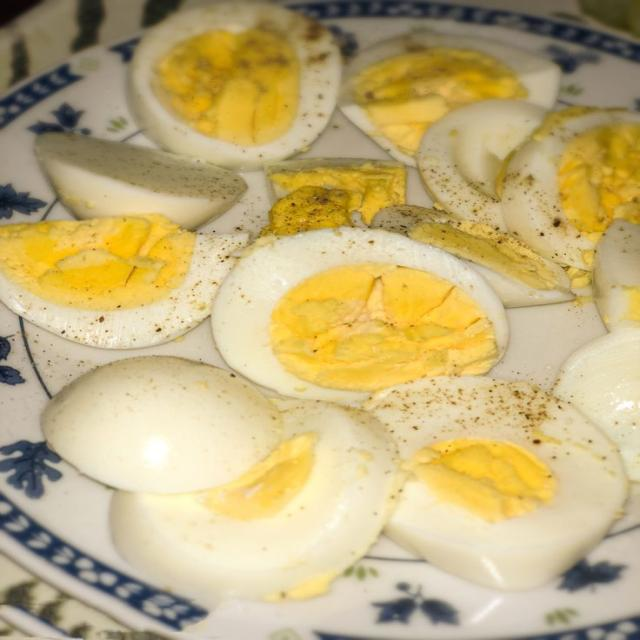eggs: (15, 12, 640, 570)
